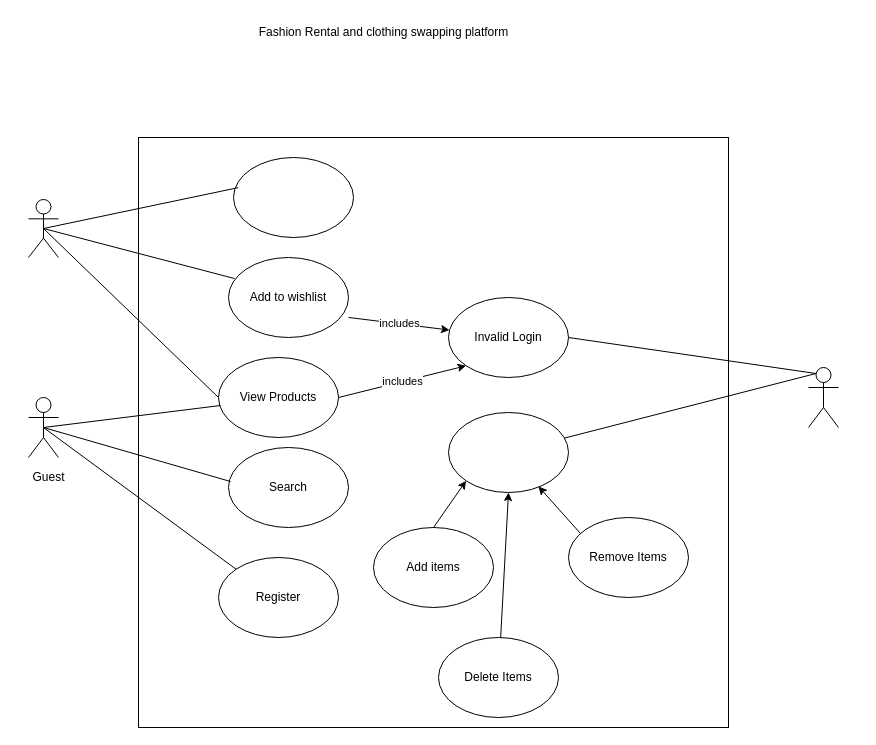
This 876x745 diagram has some shape labels left out. The shapes that lost their labels are listed below. From the top down, each one's box as (x1, y1, x2, y2) in pixels, then its label:
(232, 156, 354, 238): Add to cart
(28, 198, 58, 258): Customer
(808, 366, 838, 428): Administrator
(448, 412, 568, 492): Manage items
